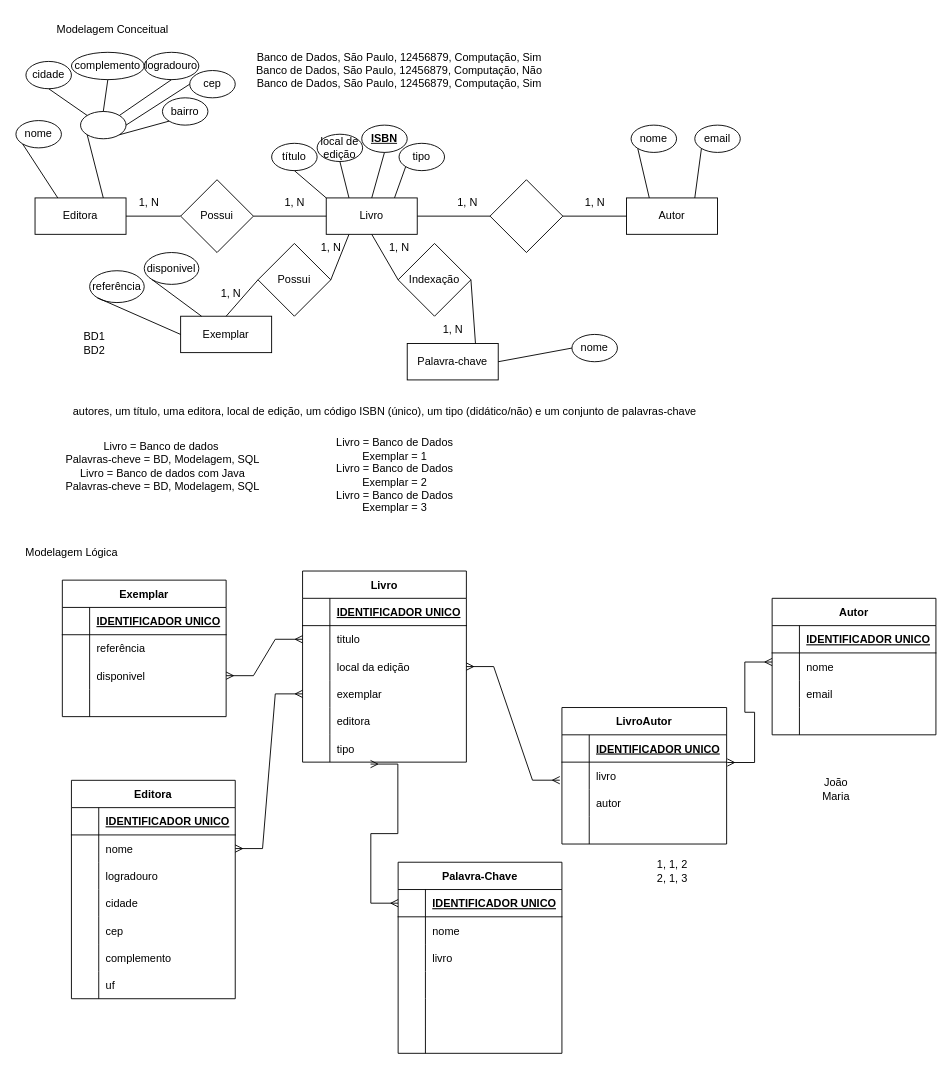
The diagram is 952 pixels wide and 1069 high, and some of its shapes have lost their labels. Here are the shapes that lost their labels. From the top down, the centre of each, then its label:
At (x=103, y=125): "endereço".
At (x=526, y=216): "Autoria".
